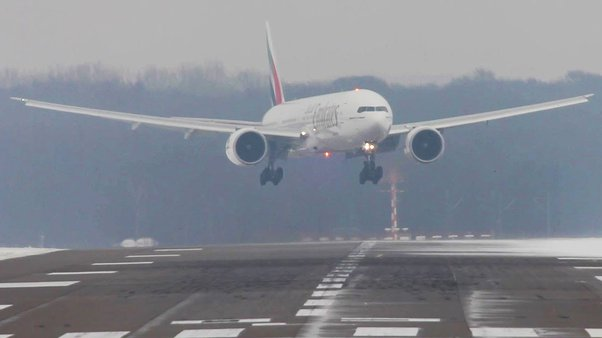airplane: (8, 21, 595, 184)
